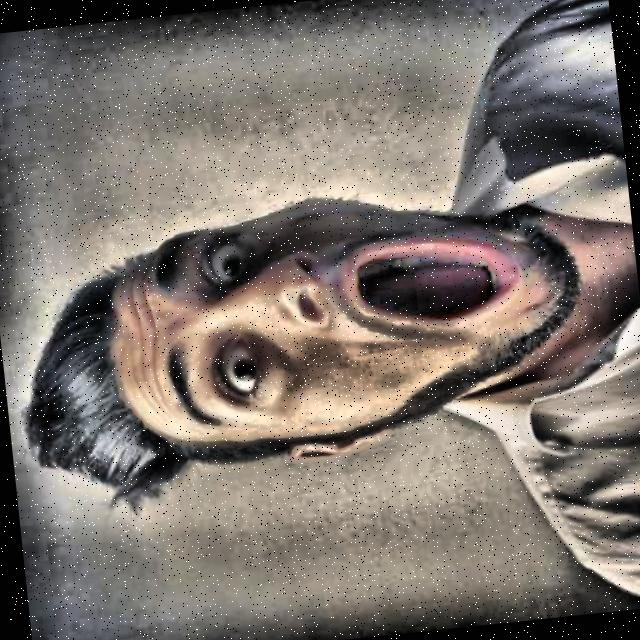fear: (5, 160, 583, 516)
